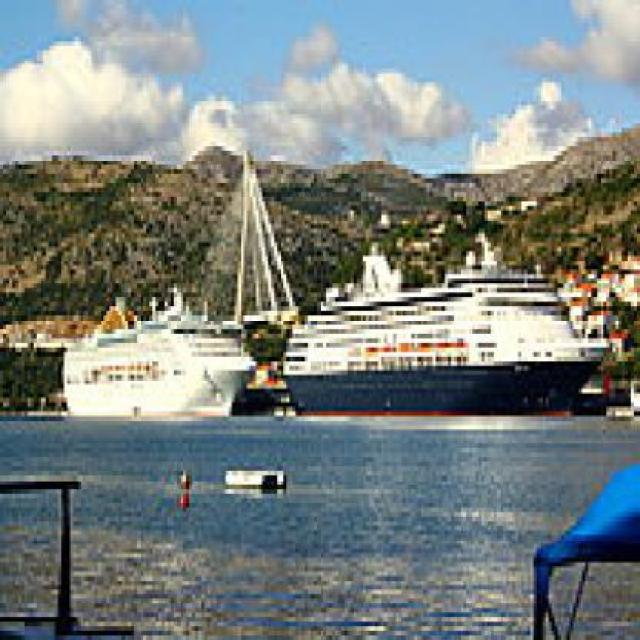cruise: (281, 234, 619, 431), (56, 285, 267, 426)
